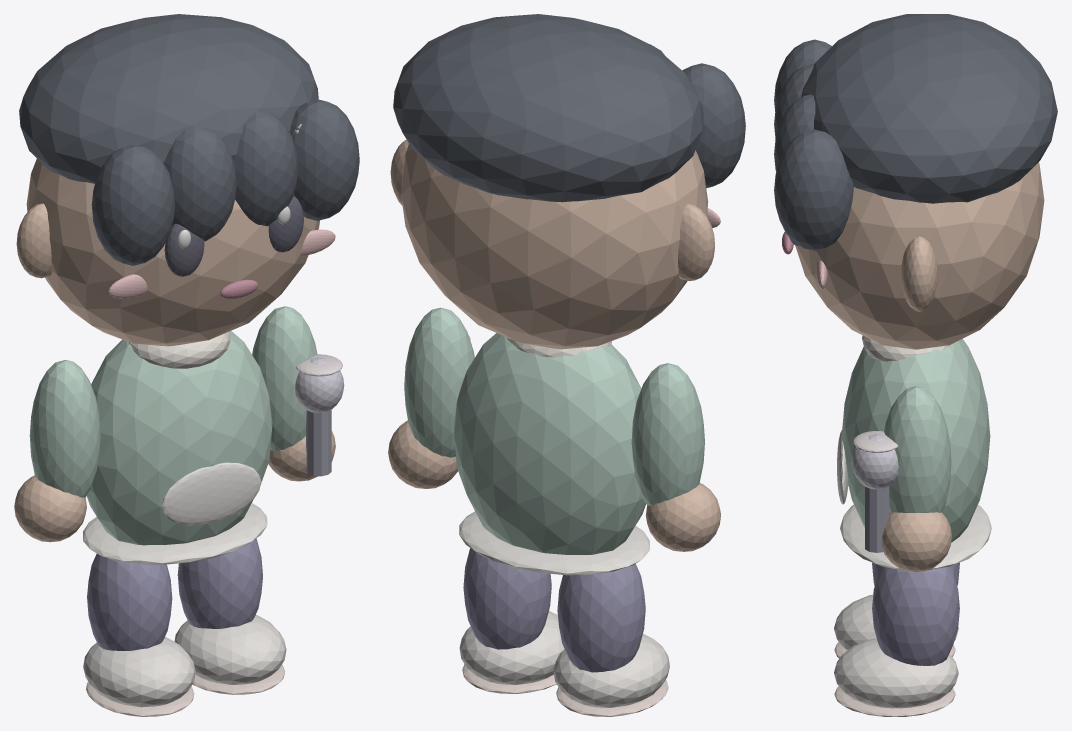
The model's file is chibi-15.glb.
3 renders of one model, left to right at view 1: azimuth 30°, elevation 25°; view 2: azimuth 150°, elevation 25°; view 3: azimuth 270°, elevation 25°, orthographic. The views are drawn at different scales.
Visible parts, largest first — view 1: hair_cap, body, head, hair_fringe_0, arm_L, leg_L, hair_fringe_3, hair_fringe_1, leg_R, shoe_L, hair_fringe_2, arm_R (+16 smaller); view 2: hair_cap, head, body, arm_L, leg_L, arm_R, leg_R, hair_fringe_0, shoe_L, shirt_trim, shoe_R, hand_L (+6 smaller); view 3: hair_cap, head, body, leg_R, hair_fringe_3, arm_R, shoe_R, hand_R, shirt_trim, ear_R, MicHead, shoe_L (+8 smaller).
Boxes of the visible parts, x1,y1,x2,y2 form: hair_cap: (19, 14, 318, 183); body: (86, 331, 272, 545); head: (26, 159, 319, 346); hair_fringe_0: (91, 144, 175, 265); arm_L: (29, 360, 100, 497); leg_L: (87, 553, 172, 650); hair_fringe_3: (289, 99, 359, 220); hair_fringe_1: (164, 126, 236, 241); leg_R: (177, 538, 262, 628); shoe_L: (83, 637, 195, 707); hair_fringe_2: (233, 110, 298, 226); arm_R: (252, 306, 317, 451); hair_cap: (393, 14, 703, 202); head: (401, 144, 708, 349); body: (453, 333, 645, 554); arm_L: (631, 363, 704, 505); leg_L: (557, 563, 645, 672); arm_R: (404, 307, 474, 457); leg_R: (463, 548, 551, 649); hair_fringe_0: (682, 63, 745, 188); shoe_L: (553, 633, 669, 707); shirt_trim: (459, 511, 649, 575); shoe_R: (459, 610, 564, 684); hand_L: (645, 483, 720, 551); hair_cap: (801, 14, 1057, 203); head: (795, 162, 1044, 349); body: (841, 339, 990, 542); leg_R: (872, 566, 959, 665); hair_fringe_3: (774, 129, 853, 250); arm_R: (884, 386, 951, 512); shoe_R: (834, 638, 958, 708); hand_R: (882, 512, 951, 572); shirt_trim: (840, 504, 991, 570); ear_R: (901, 236, 937, 311); MicHead: (852, 434, 898, 489); shoe_L: (834, 594, 958, 650).
Bounding box in the file's own units: 1.07 × 2.09 × 0.84.
